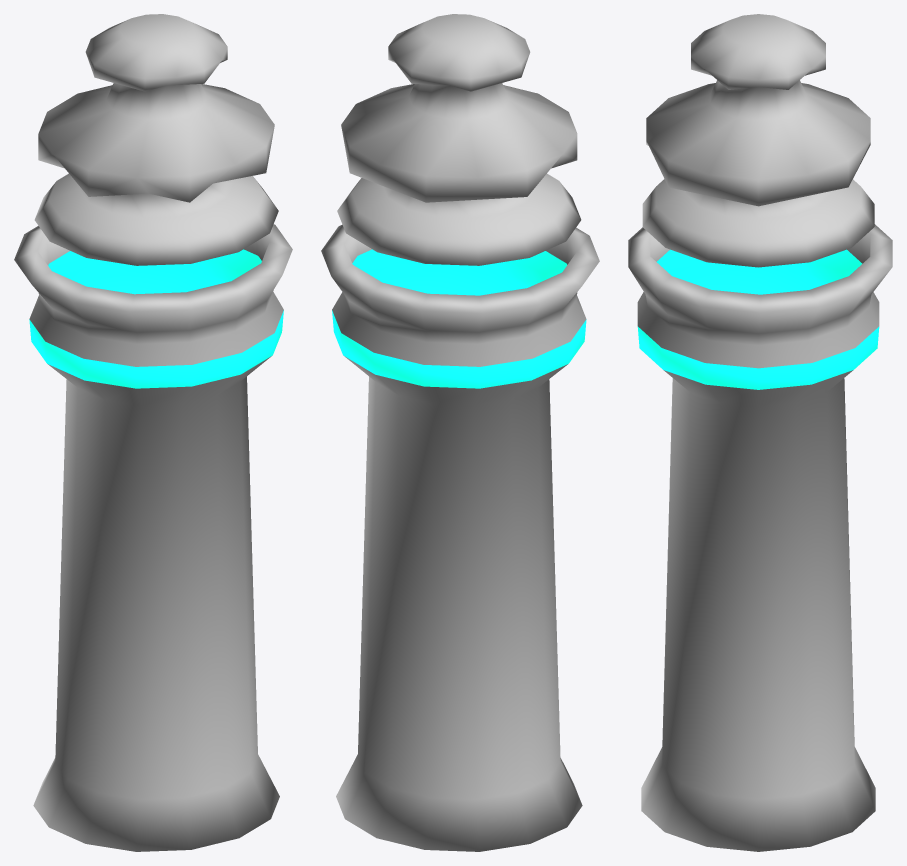
File: economyECOState1.fbx
The picture shows the model from 3 angles, left to right: view 1: azimuth 30°, elevation 25°; view 2: azimuth 150°, elevation 25°; view 3: azimuth 270°, elevation 25°; orthographic projection.
Parts seen in each view (by area): view 1: Cylinder_001; view 2: Cylinder_001; view 3: Cylinder_001.
Part boxes in pixels (left/top/right/bottom): Cylinder_001: left=14, top=14, right=292, bottom=851; Cylinder_001: left=321, top=14, right=599, bottom=851; Cylinder_001: left=628, top=14, right=892, bottom=851.
Bounding box in the file's own units: 1.65 × 4.99 × 1.55.
